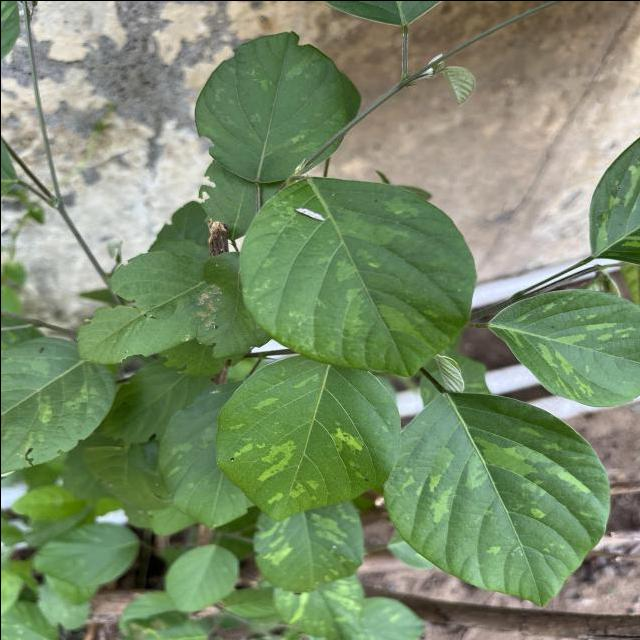Desmodium gangeticum: (378, 388, 614, 608), (235, 173, 480, 379), (210, 353, 404, 521), (483, 286, 640, 408)
